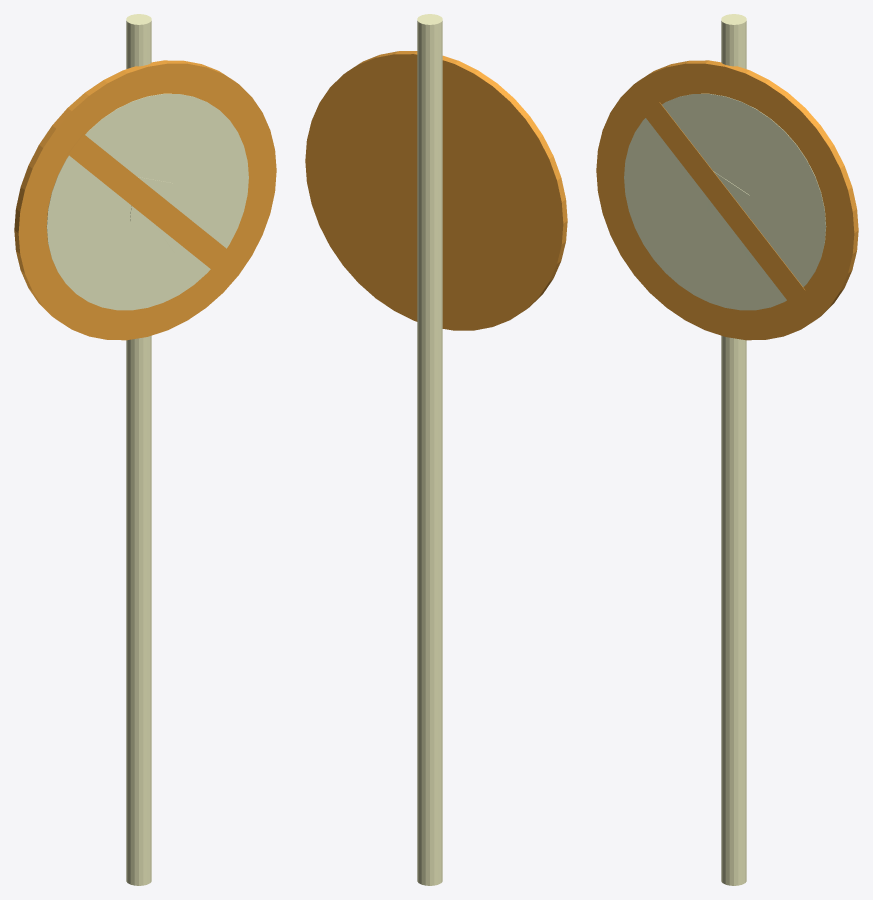
File: sign_turn_restriction_left.glb
3 renders of one model, left to right at view 1: azimuth 30°, elevation 25°; view 2: azimuth 150°, elevation 25°; view 3: azimuth 330°, elevation 25°, orthographic.
Visible parts, largest first — view 1: layer_1_00, plate_base_00, pole, layer_3_00; view 2: plate_base_00, pole; view 3: layer_1_00, plate_base_00, pole, layer_3_00.
Boxes of the visible parts, box(x1,y1,x2,y2) form: layer_1_00: box(46, 93, 248, 310); plate_base_00: box(14, 60, 276, 340); pole: box(126, 14, 151, 885); layer_3_00: box(68, 134, 228, 270); plate_base_00: box(305, 51, 567, 330); pole: box(417, 14, 442, 885); layer_1_00: box(624, 93, 826, 310); plate_base_00: box(596, 60, 858, 340); pole: box(721, 14, 746, 885); layer_3_00: box(644, 102, 804, 302).
Bounding box in the file's own units: 0.69 × 2.2 × 0.074.
